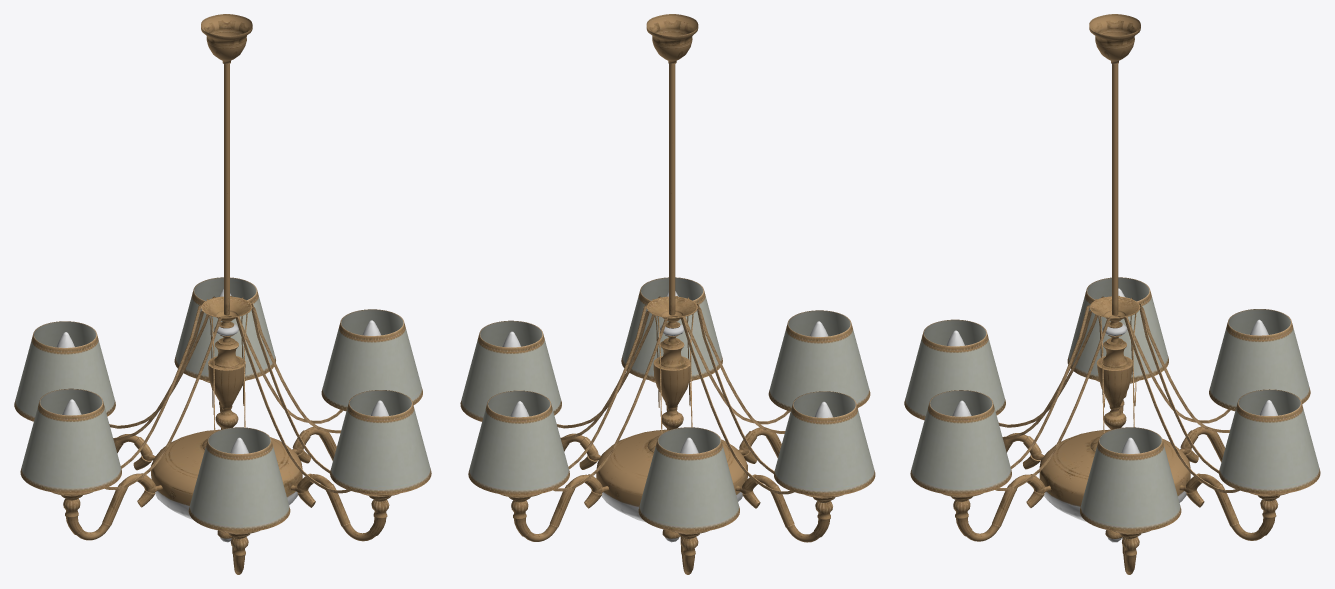
Rendered from chandelier_02.glb.
The picture shows the model from 3 angles, left to right: view 1: azimuth 30°, elevation 25°; view 2: azimuth 150°, elevation 25°; view 3: azimuth 270°, elevation 25°; orthographic projection.
Visible parts, largest first — view 1: Chandelier_02; view 2: Chandelier_02; view 3: Chandelier_02.
Boxes of the visible parts, x1,y1,x2,y2 form: Chandelier_02: (14,14,431,574); Chandelier_02: (460,14,875,574); Chandelier_02: (904,14,1320,574).
Bounding box in the file's own units: 0.679 × 0.8481 × 0.6191.
2 materials, 1 textured.
